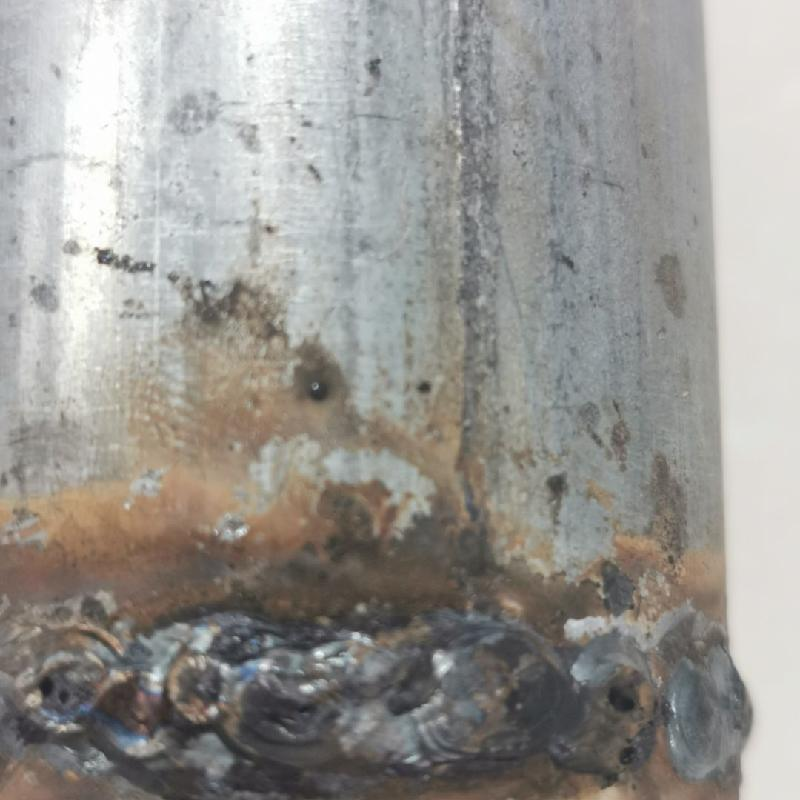Surface_pores: (587, 665, 651, 772), (22, 656, 80, 715)
wrong_size: (418, 634, 758, 785)
